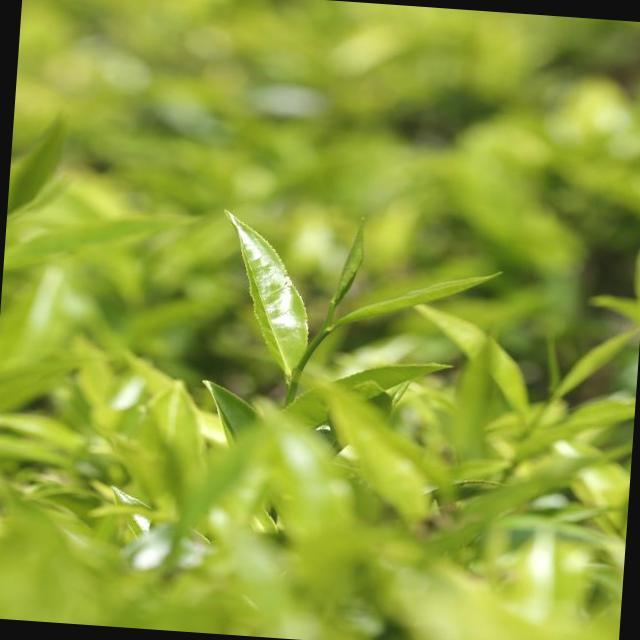Stem: (316, 327, 330, 341)
